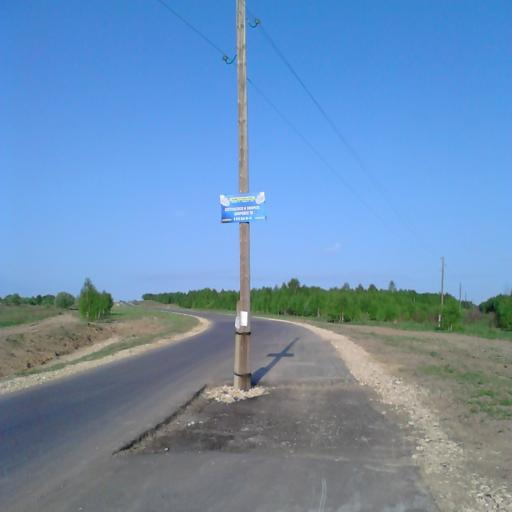Light-pole: (210, 0, 268, 423), (430, 248, 448, 344)
